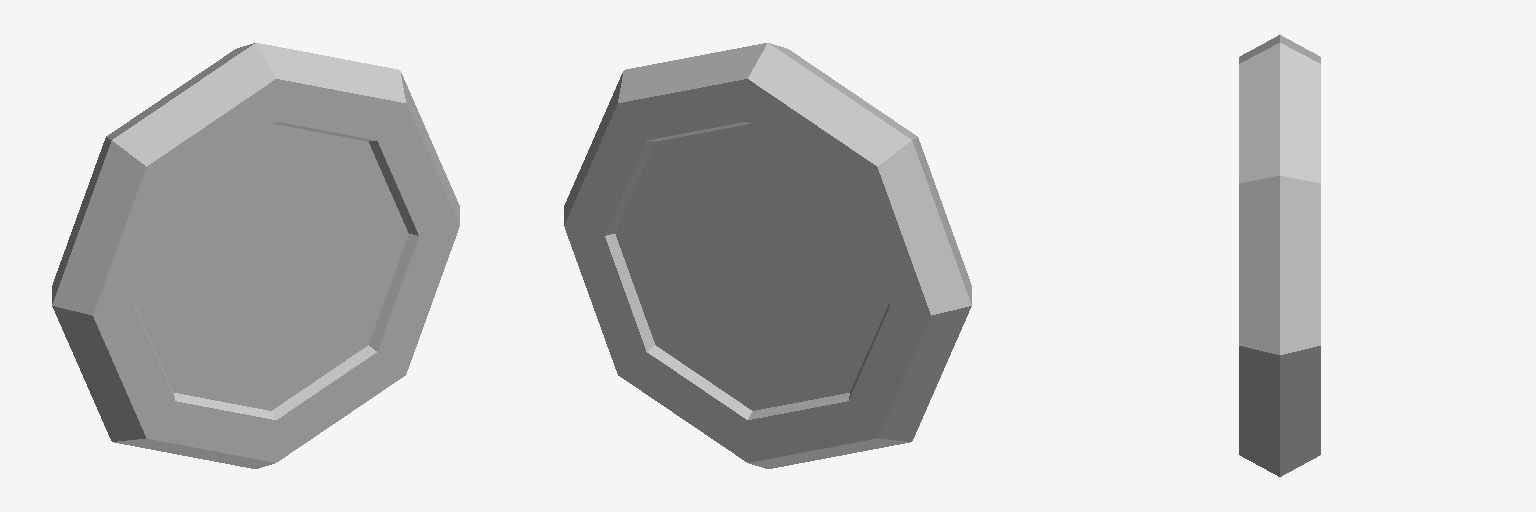
File: ring.obj
3 renders of one model, left to right at view 1: azimuth 30°, elevation 25°; view 2: azimuth 150°, elevation 25°; view 3: azimuth 270°, elevation 25°, orthographic.
Parts seen in each view (by area): view 1: Torus, Circle; view 2: Torus, Circle.001; view 3: Torus.
Part boxes in pixels (bbox=[...]): Torus: bbox=[52, 43, 459, 468]; Circle: bbox=[135, 124, 408, 410]; Torus: bbox=[564, 43, 971, 468]; Circle.001: bbox=[615, 124, 888, 410]; Torus: bbox=[1239, 35, 1320, 476].
Bounding box in the file's own units: 5.25 × 5.25 × 0.9093.